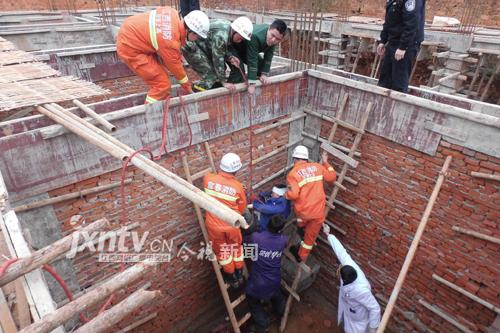helmet: (187, 14, 211, 39), (234, 17, 255, 41), (222, 154, 245, 174), (295, 145, 312, 159)
